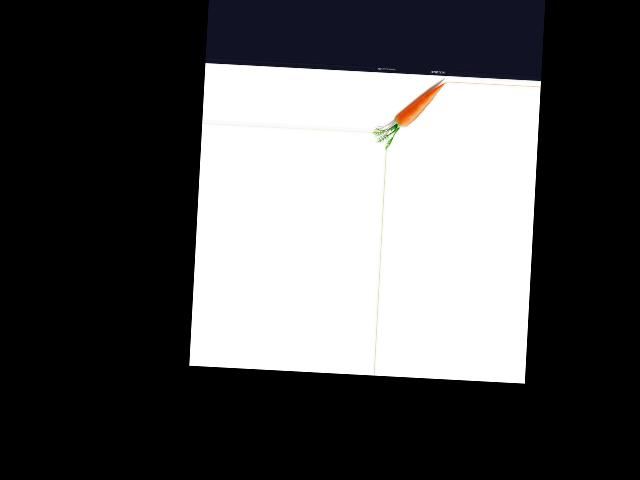carrot: (387, 77, 445, 142)
